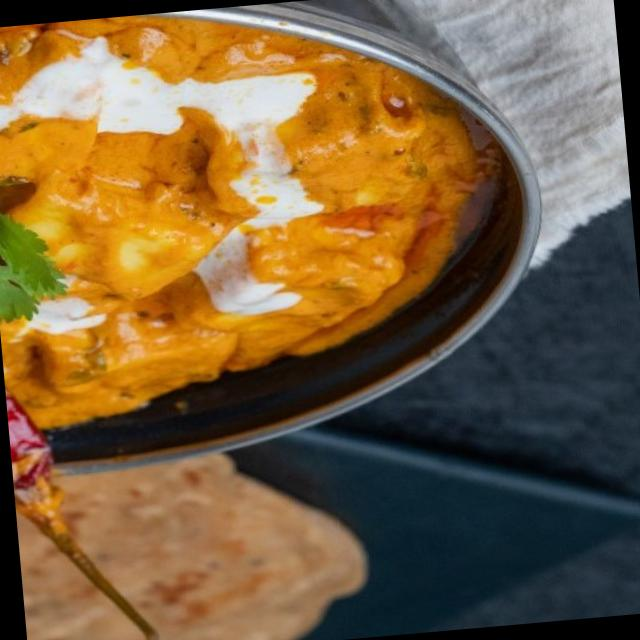ShahiPaneer: (0, 0, 517, 443)
